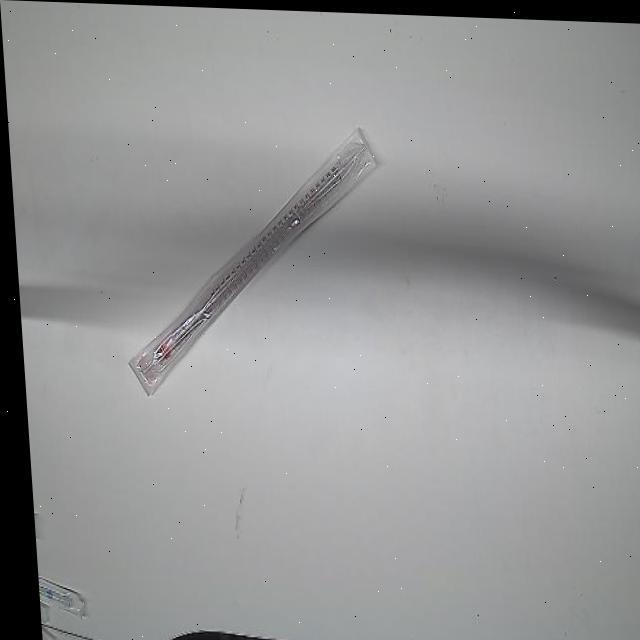Serelogical Pipet 25 mL: (108, 114, 392, 409)
